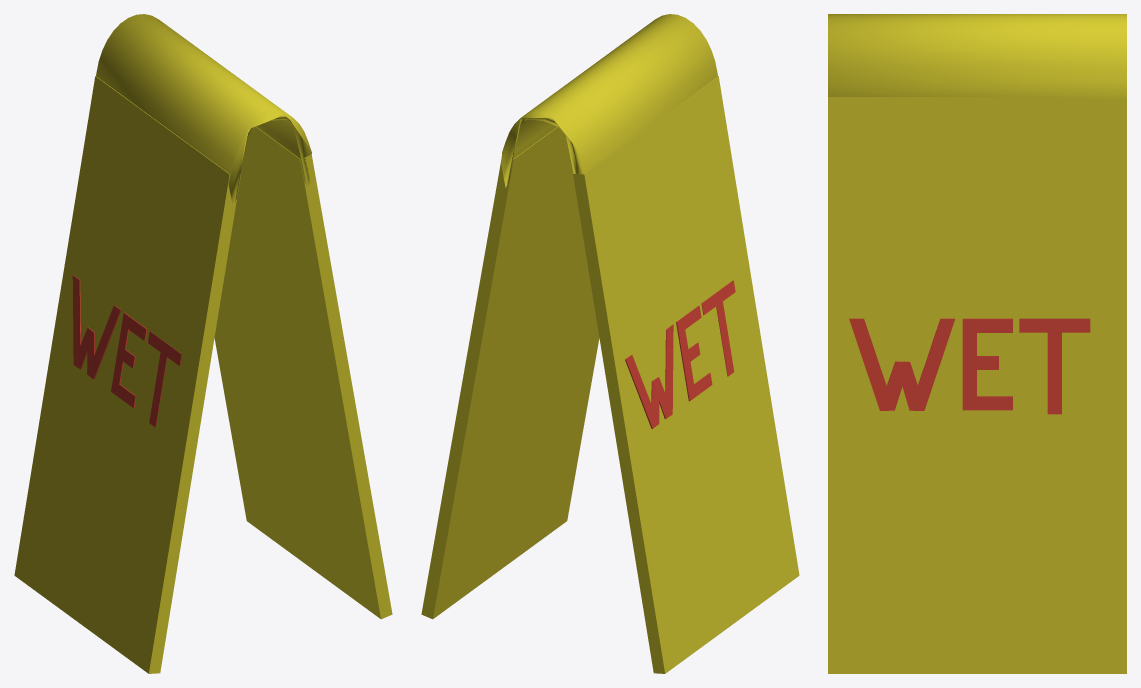
The model's file is wetfloorsign.fbx.
3 renders of one model, left to right at view 1: azimuth 30°, elevation 25°; view 2: azimuth 150°, elevation 25°; view 3: azimuth 270°, elevation 25°, orthographic. The views are drawn at different scales.
Parts seen in each view (by area): view 1: Cube.003, Cube.001, Cylinder; view 2: Cube.003, Cube.001, Cylinder; view 3: Cube.001, Cylinder, Cube.003.
Boxes of the visible parts, <box> form: Cube.003: <box>14,76,240,673</box>; Cube.001: <box>214,127,392,619</box>; Cylinder: <box>96,14,311,205</box>; Cube.003: <box>573,76,799,673</box>; Cube.001: <box>421,127,599,619</box>; Cylinder: <box>501,14,717,187</box>; Cube.001: <box>828,97,1126,673</box>; Cylinder: <box>828,14,1126,100</box>; Cube.003: <box>849,318,1090,414</box>.
Size of the model in its own units: 209 by 438 by 200.
